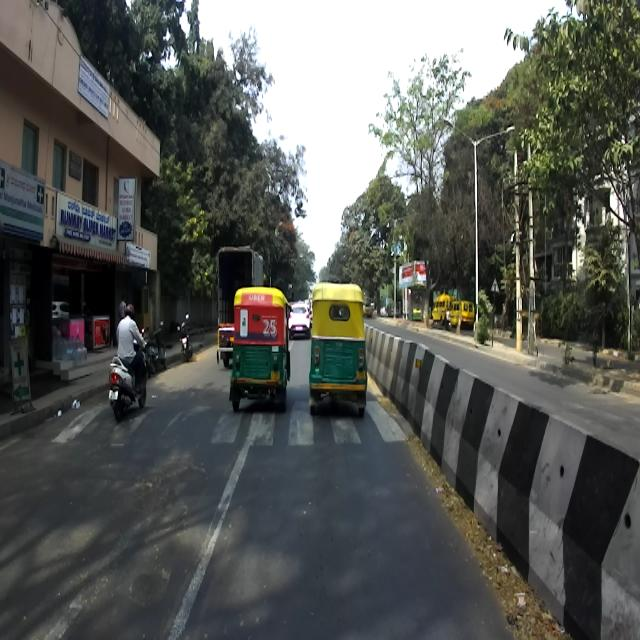auto ahead at: (308, 281, 370, 414), (230, 288, 291, 406)
motorcycle ahead at: (108, 352, 152, 423)
